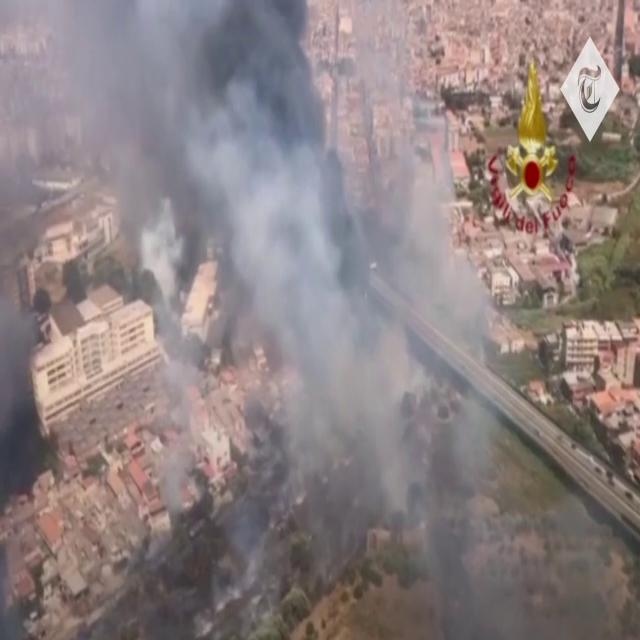Smoke: (0, 0, 542, 615)
